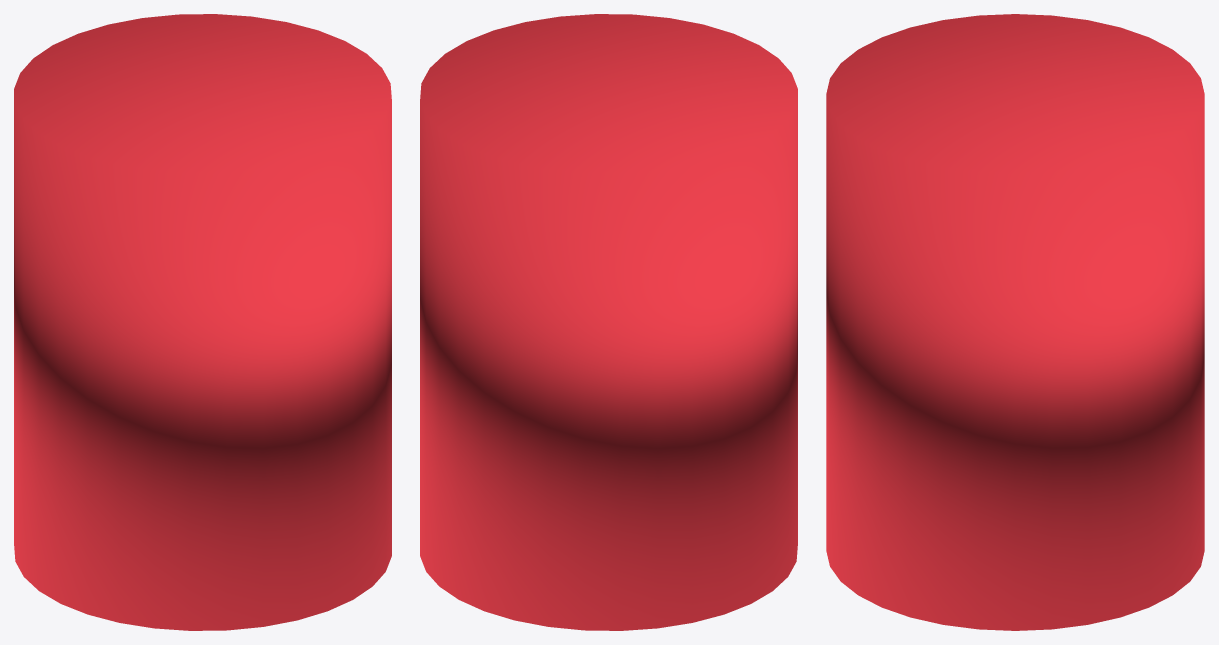
The model's file is HATCH_Emergency_Kill_Switch_Pull.glb.
3 views of the same model, side by side, from view 1: azimuth 30°, elevation 25°; view 2: azimuth 150°, elevation 25°; view 3: azimuth 270°, elevation 25° (orthographic).
Visible parts, largest first — view 1: HATCH_Emergency_Kill_Switch_Pull; view 2: HATCH_Emergency_Kill_Switch_Pull; view 3: HATCH_Emergency_Kill_Switch_Pull.
Part boxes in pixels (box(x1,y1,x2,y2)): HATCH_Emergency_Kill_Switch_Pull: box(14, 14, 391, 630); HATCH_Emergency_Kill_Switch_Pull: box(420, 14, 797, 630); HATCH_Emergency_Kill_Switch_Pull: box(826, 14, 1204, 630).
Bounding box in the file's own units: 0.03 × 0.04 × 0.03.
